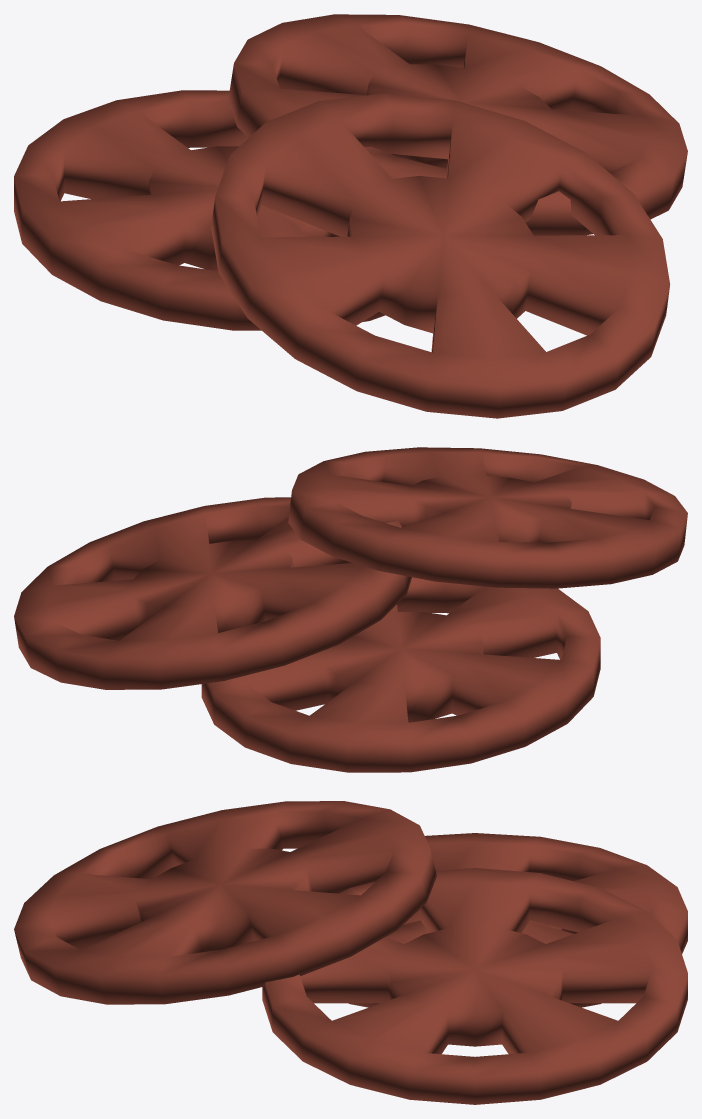
The model's file is SM_TomatoSlice3.fbx.
3 renders of one model, top to bottom at view 1: azimuth 30°, elevation 25°; view 2: azimuth 150°, elevation 25°; view 3: azimuth 270°, elevation 25°, orthographic. The views are drawn at different scales.
Visible parts, largest first — view 1: TomatoSlice3; view 2: TomatoSlice3; view 3: TomatoSlice3.
Part boxes in pixels (x1,y1,x2,y2): TomatoSlice3: [14, 14, 687, 418]; TomatoSlice3: [14, 447, 687, 772]; TomatoSlice3: [14, 801, 687, 1104].
Bounding box in the file's own units: 12.27 × 2.74 × 14.28.
